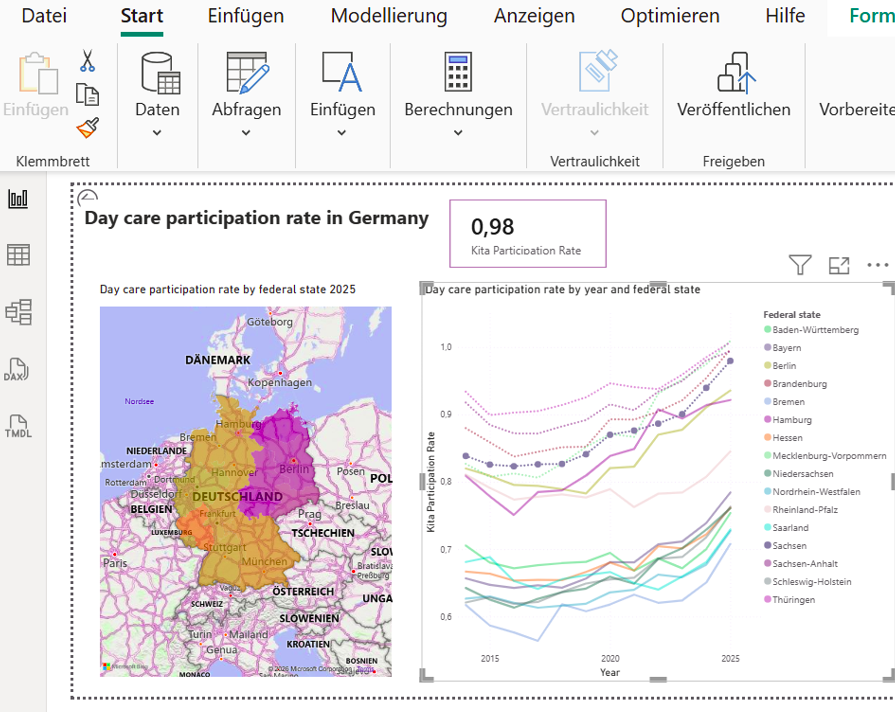

What the dashboard file says about the page in this screenshot:
{"tool":"powerbi","page":{"name":"Day care participation rate","canvas":[1280,720],"ordinal":0},"visuals":[{"type":"lineChart","title":"Day care participation rate by year and federal state","fields":{"Y":["kita.Kita Participation Rate"],"Category":["year.Year"],"Series":["state.State_name"]},"box":[489.1,136.3,669.3,561.8],"z":0},{"type":"filledMap","title":"Day care participation rate by federal state 2025","fields":{"Category":["state.State_name"]},"box":[32.1,136.1,421.4,561.3],"z":1000},{"type":"actionButton","box":[0,0,100,40],"z":2000},{"type":"textbox","box":[9.1,19.7,516.3,65.1],"z":3000},{"type":"cardVisual","title":"Day care participation rate 2025","fields":{"Data":["kita.Kita Participation Rate"]},"box":[530,20,220,96],"z":4000},{"type":"listSlicer","title":"Age","fields":{"Values":["age.Age_name"]},"box":[1158.4,136.1,120.9,223],"z":5000}]}

Visuals, with their boxes on the page's 1280x720 design canvas (x1, y1, x2, y2). These are canvas units, not pixel positions in the 895x712 screenshot, which may show the page scaled, cropped or inside an application window:
"Day care participation rate by year and federal state" lineChart: locate(489, 136, 1158, 698)
"Day care participation rate by federal state 2025" filledMap: locate(32, 136, 454, 697)
actionButton: locate(0, 0, 100, 40)
textbox: locate(9, 20, 525, 85)
"Day care participation rate 2025" cardVisual: locate(530, 20, 750, 116)
"Age" listSlicer: locate(1158, 136, 1279, 359)
